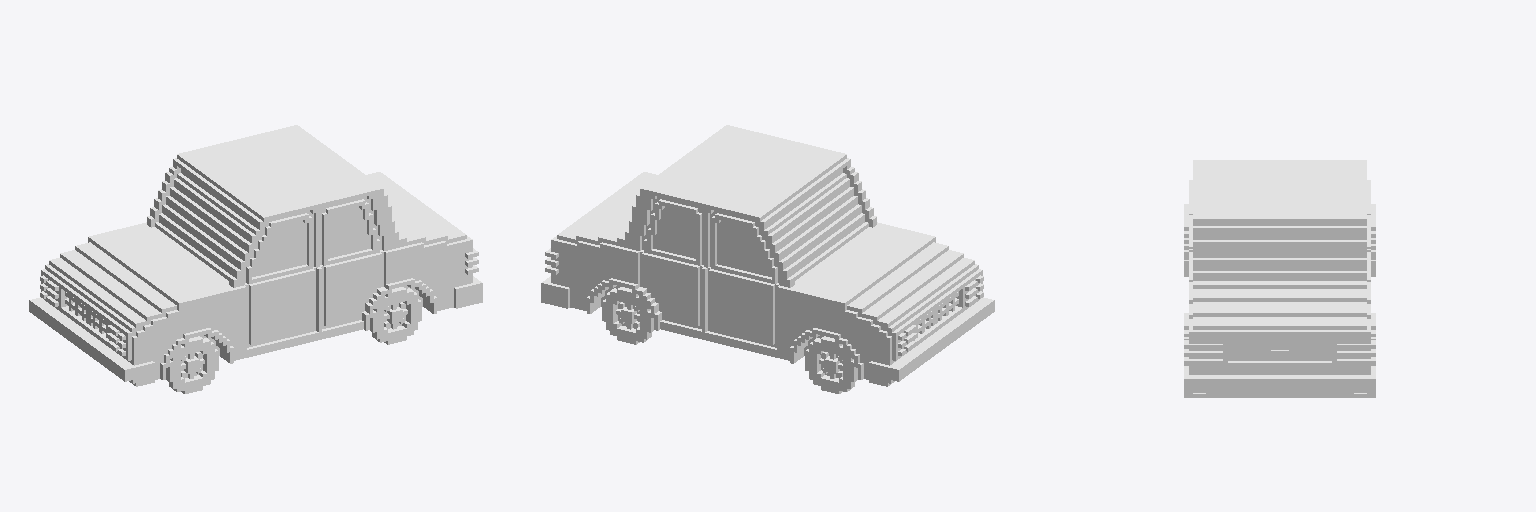
Rendered from Short_car_orange.obj.
The picture shows the model from 3 angles: view 1: azimuth 30°, elevation 25°; view 2: azimuth 150°, elevation 25°; view 3: azimuth 270°, elevation 25°; orthographic projection.
Visible parts, largest first — view 1: object 1; view 2: object 1; view 3: object 1.
Part boxes in pixels (bbox=[...]): object 1: bbox=[29, 125, 482, 393]; object 1: bbox=[541, 125, 994, 393]; object 1: bbox=[1184, 160, 1375, 397].
Bounding box in the file's own units: 9.5 × 4 × 4.4.